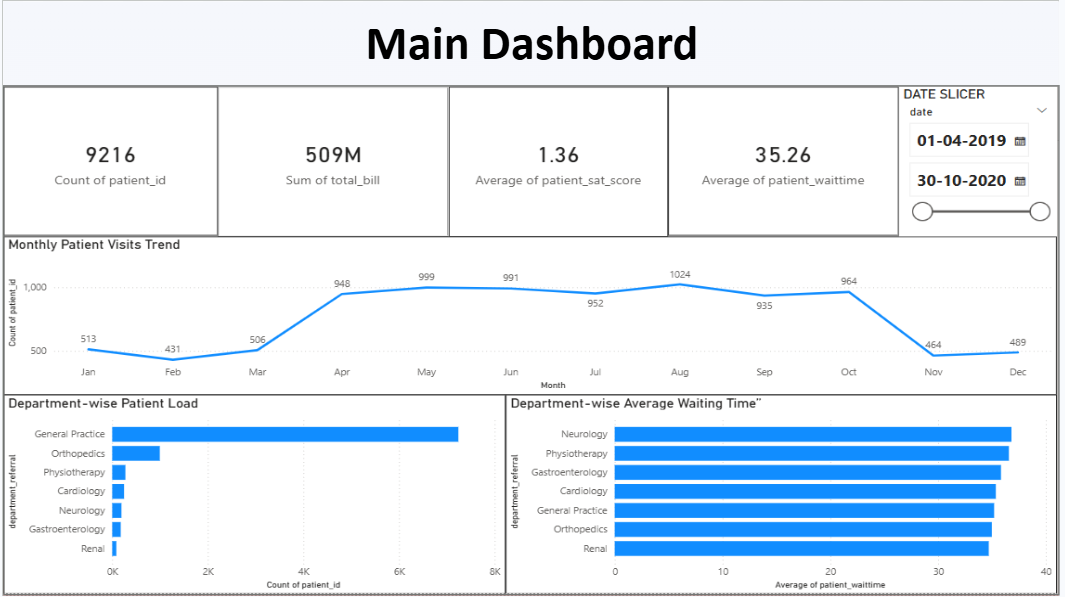

The page's visual inventory and layout, read from the dashboard file:
{"tool":"powerbi","page":{"name":"MAIN TAB ","canvas":[1280,720],"ordinal":1},"visuals":[{"type":"card","fields":{"Values":["Sum(Sheet1.total_bill)"]},"box":[261,46.7,280.2,199.2],"z":1},{"type":"card","fields":{"Values":["Avg(Hospital ER (1).patient_sat_score)"]},"box":[541.2,46.7,266.5,199.2],"z":2},{"type":"card","fields":{"Values":["Avg(Hospital ER (1).patient_waittime)"]},"box":[807.7,46.7,280.2,197.8],"z":3},{"type":"card","fields":{"Values":["CountNonNull(Hospital ER (1).patient_id)"]},"box":[0,46.7,261,197.8],"z":4},{"type":"slicer","title":"DATE SLICER","fields":{"Values":["Hospital ER (1).date"]},"box":[1088,46.7,192.3,197.8],"z":5},{"type":"lineChart","title":"Monthly Patient Visits Trend","fields":{"Category":["Hospital ER (1).Month"],"Y":["CountNonNull(Hospital ER (1).patient_id)"]},"box":[0,245.9,1280.3,210.2],"z":6},{"type":"clusteredBarChart","title":"Department-wise Patient Load","fields":{"Category":["Hospital ER (1).department_referral"],"Y":["CountNonNull(Hospital ER (1).patient_id)"]},"box":[0,455.4,610.5,265.1],"z":7},{"type":"clusteredBarChart","title":"Department-wise Average Waiting Time”","fields":{"Category":["Hospital ER (1).department_referral"],"Y":["Avg(Hospital ER (1).patient_waittime)"]},"box":[610.5,455.4,669.8,265.1],"z":8}]}

Visuals, with their boxes in screenshot pixels (x1, y1, x2, y2), scaled from the page's 1280x720 canvas onto the 1065x597 screenshot:
card - Sum(Sheet1.total_bill): (217, 39, 450, 204)
card - Avg(Hospital ER (1).patient_sat_score): (450, 39, 672, 204)
card - Avg(Hospital ER (1).patient_waittime): (672, 39, 905, 203)
card - CountNonNull(Hospital ER (1).patient_id): (0, 39, 217, 203)
"DATE SLICER" slicer: (905, 39, 1064, 203)
"Monthly Patient Visits Trend" lineChart: (0, 204, 1064, 378)
"Department-wise Patient Load" clusteredBarChart: (0, 378, 508, 596)
"Department-wise Average Waiting Time”" clusteredBarChart: (508, 378, 1064, 596)
